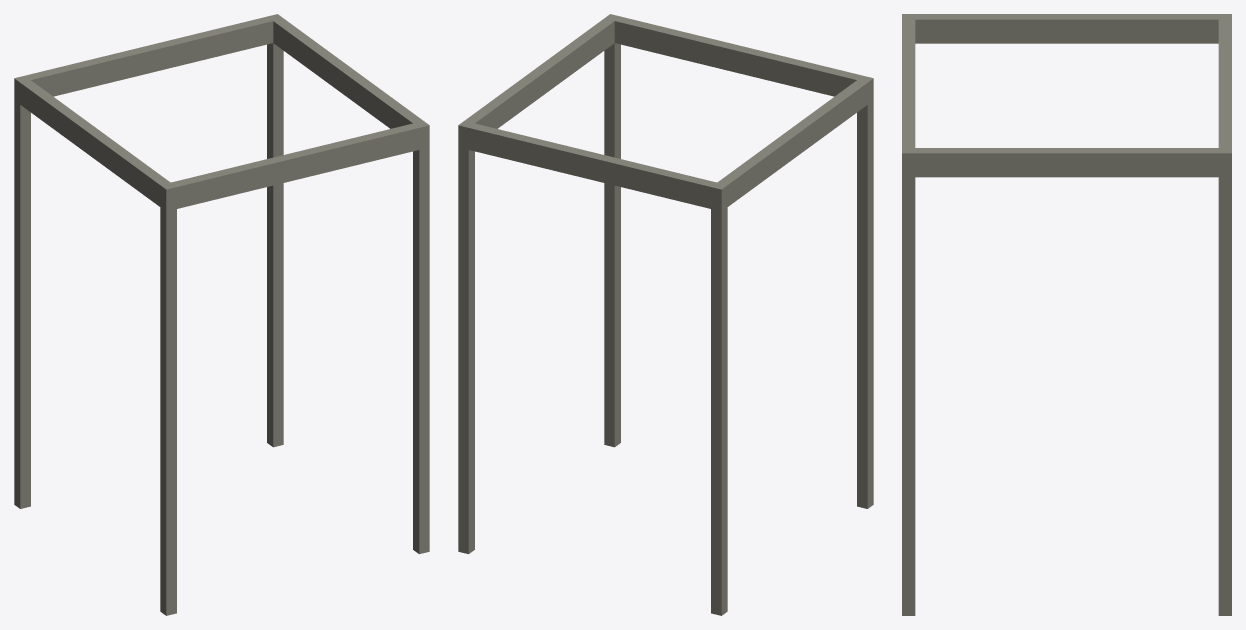
The model's file is fp-dokurtu_1k-6s_stain.fbx.
3 renders of one model, left to right at view 1: azimuth 30°, elevation 25°; view 2: azimuth 150°, elevation 25°; view 3: azimuth 270°, elevation 25°, orthographic. The views are drawn at different scales.
Parts seen in each view (by area): view 1: fp-dokurtu_1k-6s_stain; view 2: fp-dokurtu_1k-6s_stain; view 3: fp-dokurtu_1k-6s_stain.
Part boxes in pixels (x1=…): fp-dokurtu_1k-6s_stain: x1=14, y1=14, x2=429, y2=615; fp-dokurtu_1k-6s_stain: x1=458, y1=14, x2=873, y2=615; fp-dokurtu_1k-6s_stain: x1=902, y1=14, x2=1231, y2=615.
Size of the model in its own units: 187 by 290 by 187.
1 material, 1 textured.
